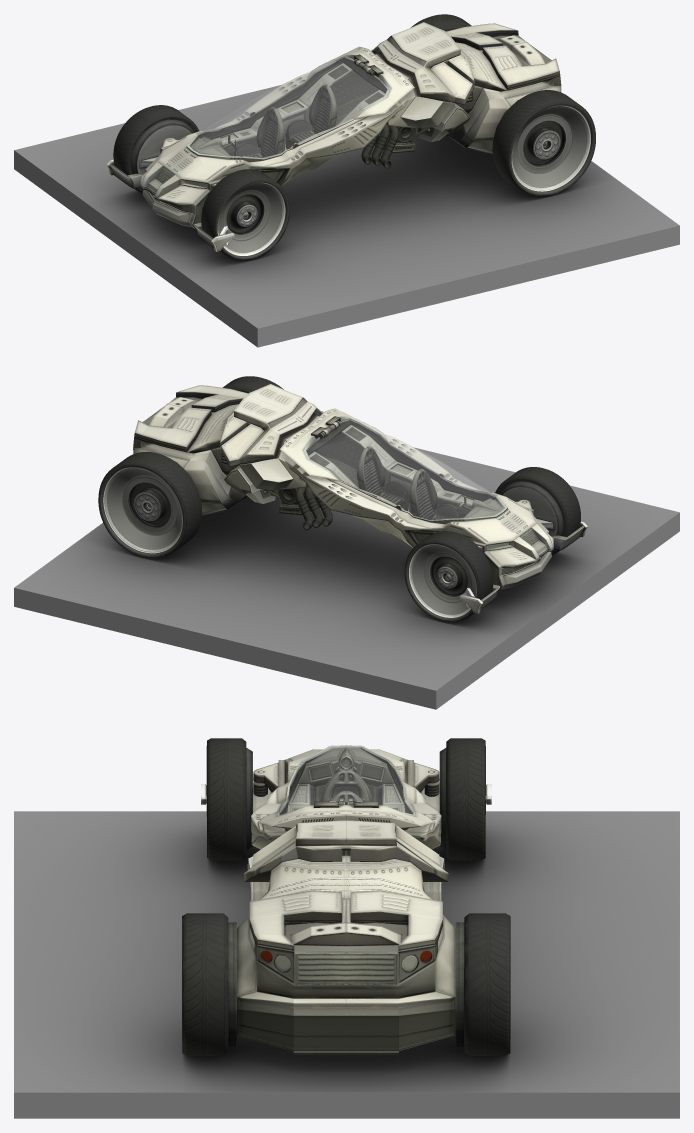
Rendered from workshop-future-car.glb.
3 renders of one model, top to bottom at view 1: azimuth 30°, elevation 25°; view 2: azimuth 150°, elevation 25°; view 3: azimuth 270°, elevation 25°, orthographic. The views are drawn at different scales.
Parts seen in each view (by area): view 1: Plane.004, Speed_car.007, Speed_car.000, Cube.045, Cube.044; view 2: Plane.004, Speed_car.007, Speed_car.000, Cube.045, Cube.044; view 3: Plane.004, Speed_car.007, Cube.044, Speed_car.000, Cube.045.
Part boxes in pixels (left/top/right/bottom): Plane.004: left=14, top=85, right=679, bottom=347; Speed_car.007: left=140, top=22, right=561, bottom=228; Speed_car.000: left=106, top=105, right=289, bottom=260; Cube.045: left=189, top=56, right=387, bottom=158; Cube.044: left=411, top=14, right=595, bottom=196; Plane.004: left=14, top=447, right=679, bottom=709; Speed_car.007: left=133, top=384, right=553, bottom=590; Speed_car.000: left=404, top=467, right=587, bottom=622; Cube.045: left=306, top=418, right=504, bottom=520; Cube.044: left=98, top=376, right=283, bottom=558; Plane.004: left=14, top=811, right=679, bottom=1118; Speed_car.007: left=228, top=745, right=464, bottom=1054; Cube.044: left=182, top=913, right=510, bottom=1055; Speed_car.000: left=201, top=738, right=491, bottom=860; Cube.045: left=279, top=746, right=414, bottom=815.
Size of the model in its own units: 6.8 by 2.31 by 6.8.
Materials: 4 (2 with a texture image).
